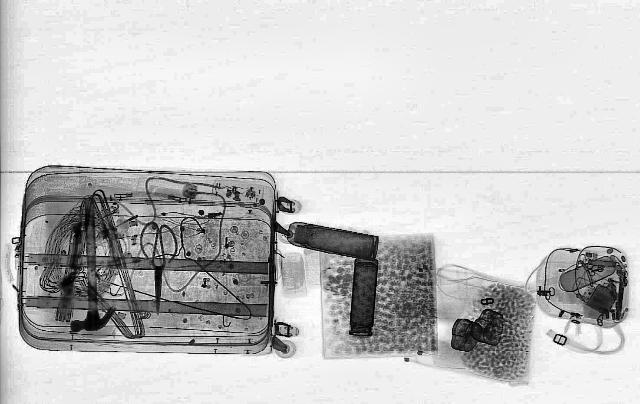Scissors: (140, 221, 178, 315)
